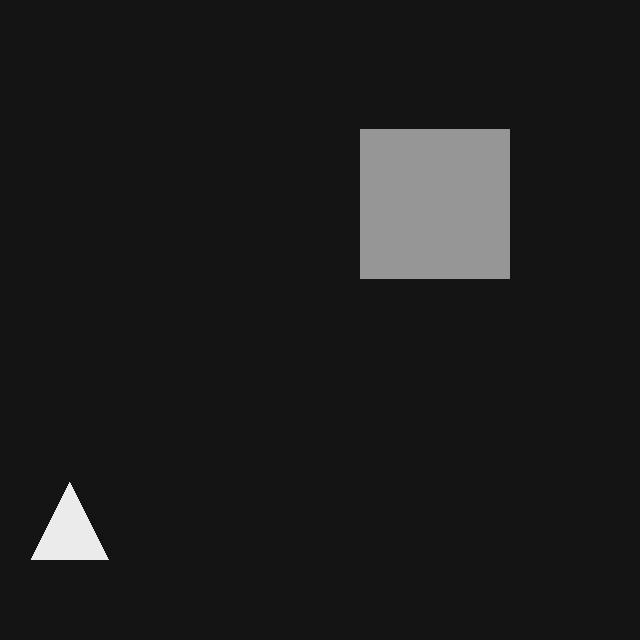square: (360, 129, 509, 278)
triangle: (31, 482, 108, 559)
